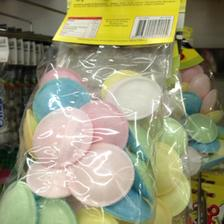Suessigkeit: (30, 3, 182, 215)
